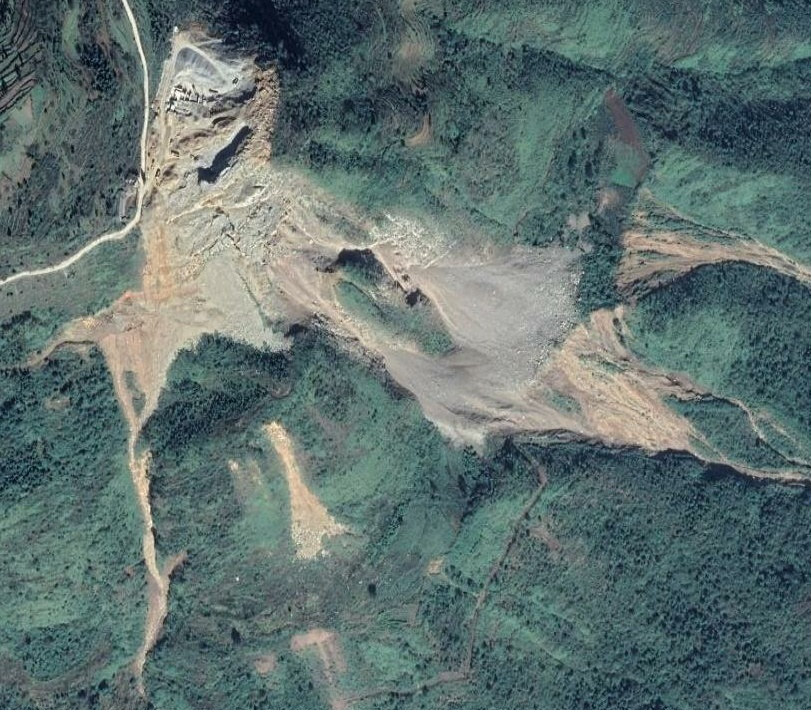slope: (37, 21, 287, 451), (347, 233, 588, 458), (515, 308, 715, 452), (252, 171, 436, 327), (608, 184, 810, 298), (259, 416, 361, 568)
